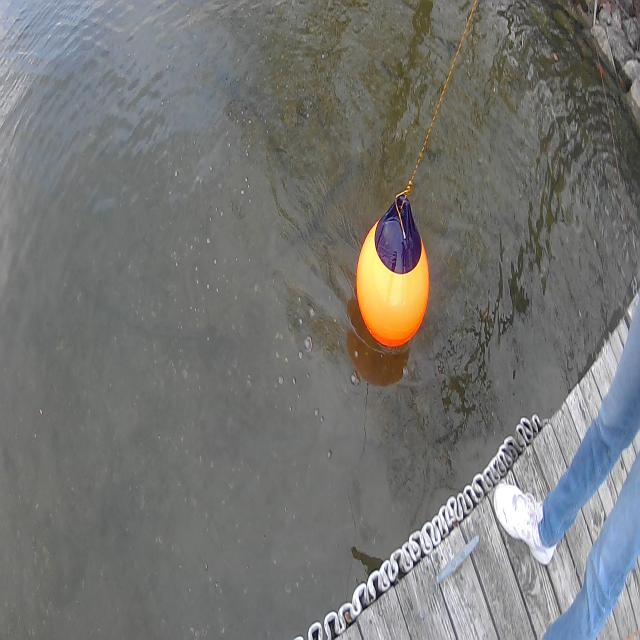Buoy: (356, 215, 430, 347)
